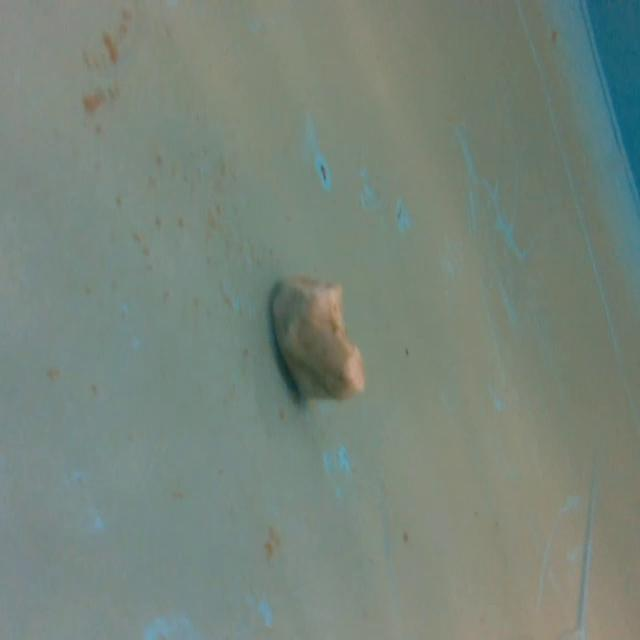rock: (266, 276, 368, 410)
